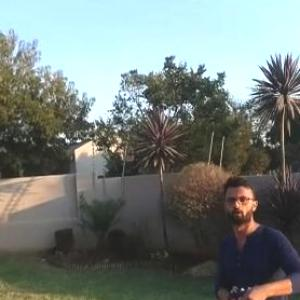follow: (208, 165, 300, 299)
